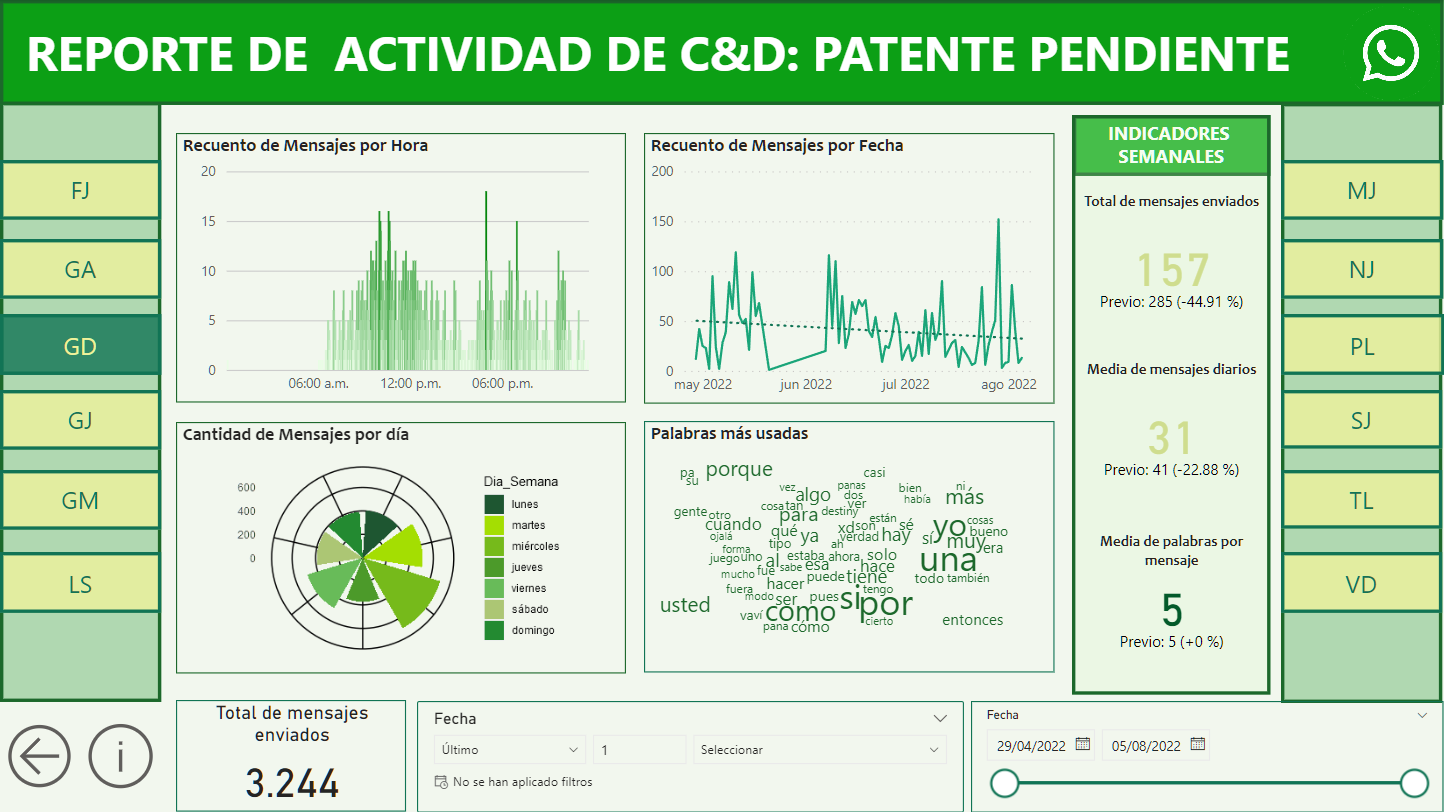

Layout of this report page (visuals, bound fields, positions):
{"tool":"powerbi","page":{"name":"GD","canvas":[1280,720],"ordinal":3},"visuals":[{"type":"shape","box":[0,112.6,199.5,523.2],"z":0},{"type":"shape","box":[0,0,1280,118.7],"z":1000},{"type":"image","box":[1167.2,5.8,112.8,106],"z":2000},{"type":"textbox","box":[0,24.3,1167.2,69.1],"z":3000},{"type":"shape","box":[1080,112.6,199.5,523.2],"z":4000},{"type":"slicer","fields":{"Values":["whatsapp_chat mychats.Fecha"]},"box":[419.4,635.8,440.7,85.1],"z":5000},{"type":"columnChart","title":"Recuento de Mensajes por Hora","fields":{"Category":["whatsapp_chat mychats.Hora"],"Y":["CountNonNull(whatsapp_chat mychats.Indice)"]},"box":[640.2,118.8,439.8,275.8],"z":6000},{"type":"donutChart","title":"Proporción de Sentimiento por Mensajes","fields":{"Category":["whatsapp_chat mychats.Sentimiento"],"Y":["CountNonNull(whatsapp_chat mychats.Indice)"]},"box":[199.5,394.6,440.7,241.2],"z":7000},{"type":"lineChart","title":"Recuento de Mensajes por Fecha","fields":{"Y":["CountNonNull(whatsapp_chat mychats.Indice)"],"Category":["whatsapp_chat mychats.Fecha"]},"box":[200.4,118.8,439.8,275.8],"z":8000},{"type":"actionButton","box":[0,518.7,199.5,53.2],"z":9000},{"type":"actionButton","box":[0,445.1,199.5,53.2],"z":10000},{"type":"actionButton","box":[0,374.2,199.5,53.2],"z":11000},{"type":"actionButton","box":[0,306.8,199.5,53.2],"z":12000},{"type":"actionButton","box":[0,239.4,199.5,53.2],"z":13000},{"type":"actionButton","box":[0,169.4,199.5,53.2],"z":14000},{"type":"actionButton","box":[1080.4,518.7,199.5,53.2],"z":15000},{"type":"actionButton","box":[1080.4,445.1,199.5,53.2],"z":16000},{"type":"actionButton","box":[1080.4,374.2,199.5,53.2],"z":17000},{"type":"actionButton","box":[1080.4,306.8,199.5,53.2],"z":18000},{"type":"actionButton","box":[1080.4,239.4,199.5,53.2],"z":19000},{"type":"actionButton","box":[1080.4,169.4,199.5,53.2],"z":20000},{"type":"WordCloud1447959067750","title":"Palabras más usadas","fields":{"Category":["whatsapp_chat mychats.Mensaje"],"Values":["CountNonNull(whatsapp_chat mychats.Indice)"]},"box":[640,394.7,315.2,241.4],"z":21000},{"type":"actionButton","box":[113.1,636.2,86.2,83.4],"z":22000},{"type":"card","title":"Total de mensajes enviados","fields":{"Values":["CountNonNull(whatsapp_chat mychats.Indice)"]},"box":[199.5,635.8,220.8,84.2],"z":23000},{"type":"actionButton","box":[0,638.1,75.7,80.5],"z":24000},{"type":"slicer","fields":{"Values":["whatsapp_chat mychats.Fecha"]},"box":[860.4,635.7,418.7,84.3],"z":25000},{"type":"card","title":"Media de Palabras por Mensaje","fields":{"Values":["Tabla_Medidas.Media_Palabras_Por_Mensaje"]},"box":[954.1,394.6,125,120.6],"z":25001},{"type":"card","title":"Total de Palabras enviadas","fields":{"Values":["Sum(whatsapp_chat mychats.Cantidad_Palabras)"]},"box":[953.2,515.2,125.9,120.6],"z":25002}]}

Visuals, with their boxes in screenshot pixels (x1, y1, x2, y2), scaled from the page's 1280x720 canvas onto the 1444x812 screenshot:
shape: (x1=0, y1=127, x2=225, y2=717)
shape: (x1=0, y1=0, x2=1443, y2=134)
image: (x1=1317, y1=7, x2=1443, y2=126)
textbox: (x1=0, y1=27, x2=1317, y2=105)
shape: (x1=1218, y1=127, x2=1443, y2=717)
slicer - whatsapp_chat mychats.Fecha: (x1=473, y1=717, x2=970, y2=811)
"Recuento de Mensajes por Hora" columnChart: (x1=722, y1=134, x2=1218, y2=445)
"Proporción de Sentimiento por Mensajes" donutChart: (x1=225, y1=445, x2=722, y2=717)
"Recuento de Mensajes por Fecha" lineChart: (x1=226, y1=134, x2=722, y2=445)
actionButton: (x1=0, y1=585, x2=225, y2=645)
actionButton: (x1=0, y1=502, x2=225, y2=562)
actionButton: (x1=0, y1=422, x2=225, y2=482)
actionButton: (x1=0, y1=346, x2=225, y2=406)
actionButton: (x1=0, y1=270, x2=225, y2=330)
actionButton: (x1=0, y1=191, x2=225, y2=251)
actionButton: (x1=1219, y1=585, x2=1443, y2=645)
actionButton: (x1=1219, y1=502, x2=1443, y2=562)
actionButton: (x1=1219, y1=422, x2=1443, y2=482)
actionButton: (x1=1219, y1=346, x2=1443, y2=406)
actionButton: (x1=1219, y1=270, x2=1443, y2=330)
actionButton: (x1=1219, y1=191, x2=1443, y2=251)
"Palabras más usadas" WordCloud1447959067750: (x1=722, y1=445, x2=1078, y2=717)
actionButton: (x1=128, y1=717, x2=225, y2=811)
"Total de mensajes enviados" card: (x1=225, y1=717, x2=474, y2=811)
actionButton: (x1=0, y1=720, x2=85, y2=810)
slicer - whatsapp_chat mychats.Fecha: (x1=971, y1=717, x2=1443, y2=811)
"Media de Palabras por Mensaje" card: (x1=1076, y1=445, x2=1217, y2=581)
"Total de Palabras enviadas" card: (x1=1075, y1=581, x2=1217, y2=717)
